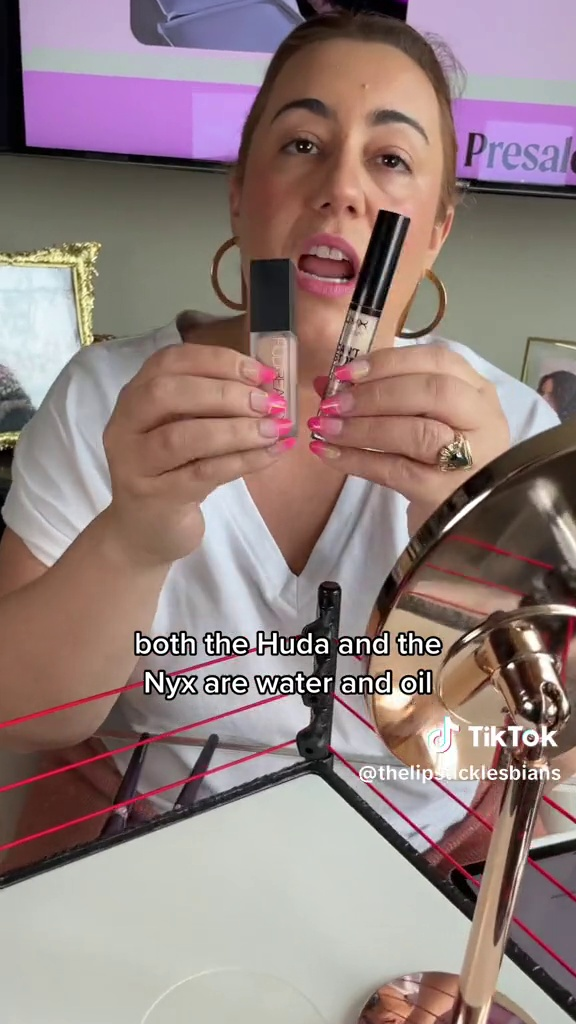train' :'yolo_data/train/images',: (316, 203, 413, 427), (242, 246, 306, 456)
